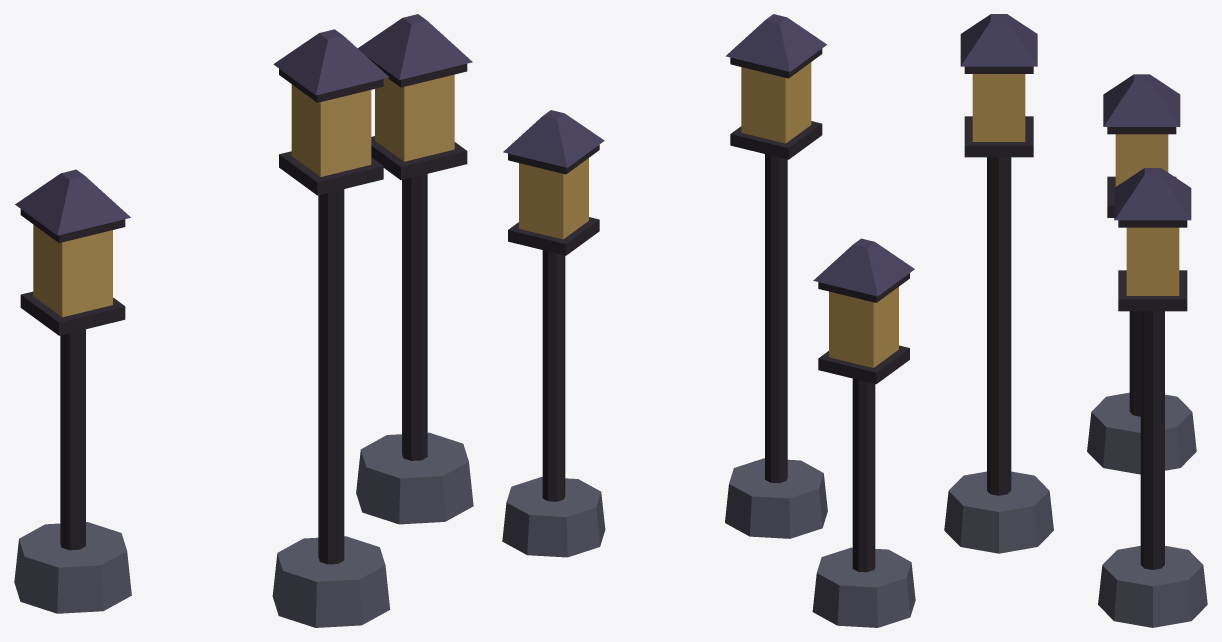
The model's file is HauntedWoods_LanternCluster_Simple.glb.
3 renders of one model, left to right at view 1: azimuth 30°, elevation 25°; view 2: azimuth 150°, elevation 25°; view 3: azimuth 270°, elevation 25°, orthographic. The views are drawn at different scales.
Parts seen in each view (by area): view 1: HauntedWoods_LanternCluster_Simple; view 2: HauntedWoods_LanternCluster_Simple; view 3: HauntedWoods_LanternCluster_Simple.
Boxes of the visible parts, x1,y1,x2,y2 form: HauntedWoods_LanternCluster_Simple: (14,14,473,627); HauntedWoods_LanternCluster_Simple: (502,14,915,627); HauntedWoods_LanternCluster_Simple: (944,14,1207,627).
Size of the model in its own units: 2.15 by 2.58 by 1.2.
